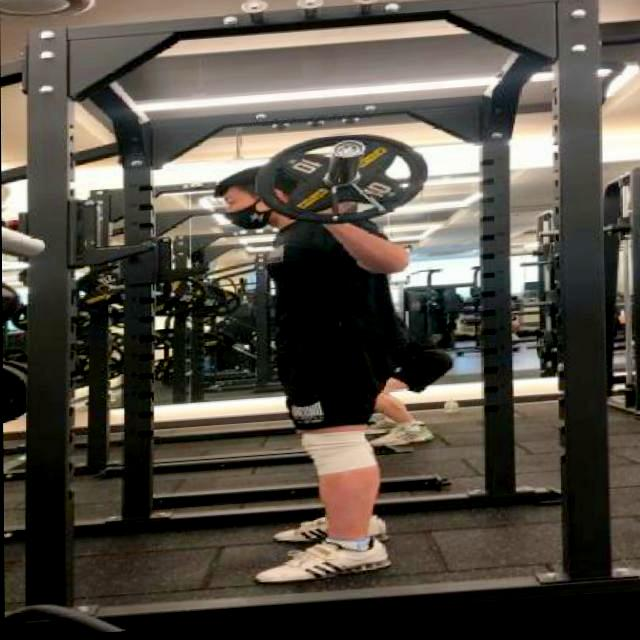barbell: (251, 133, 430, 238)
